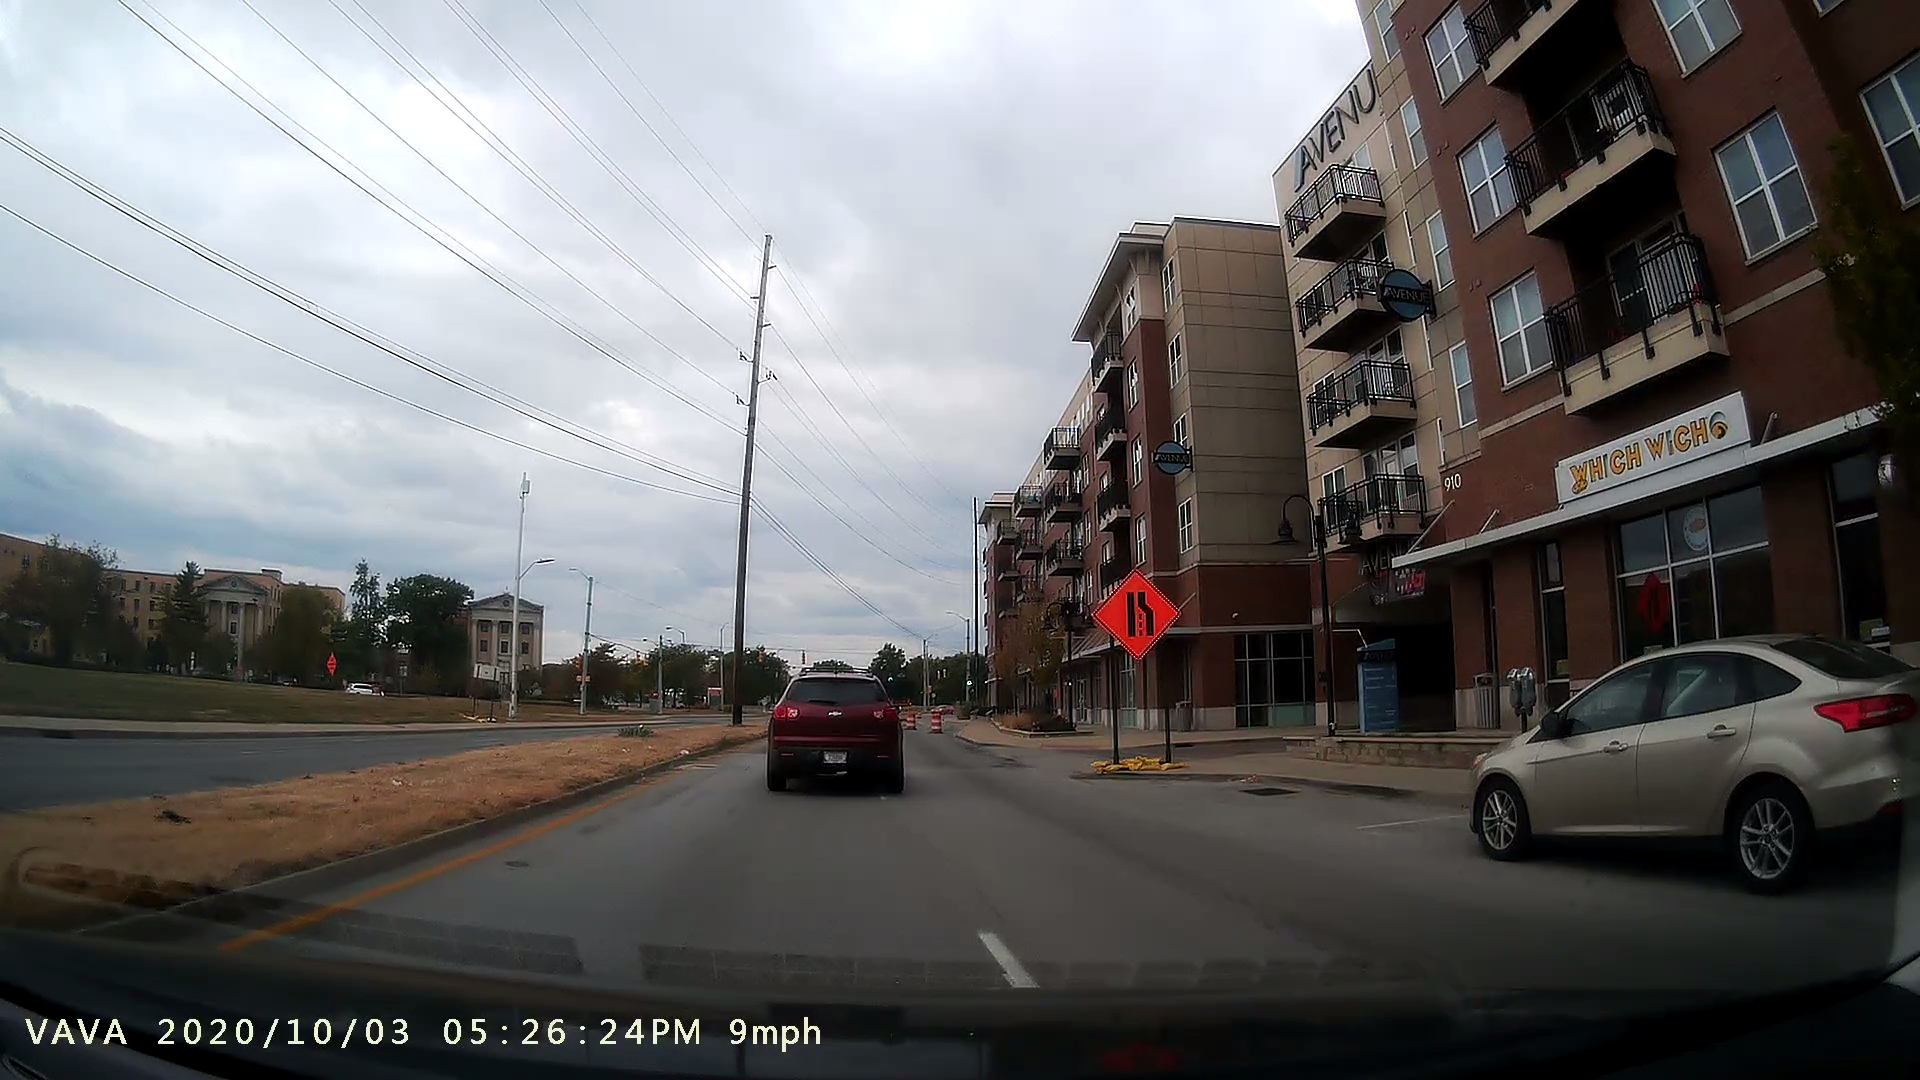ttcs_right_lane_reduction: (1091, 567, 1195, 771)
